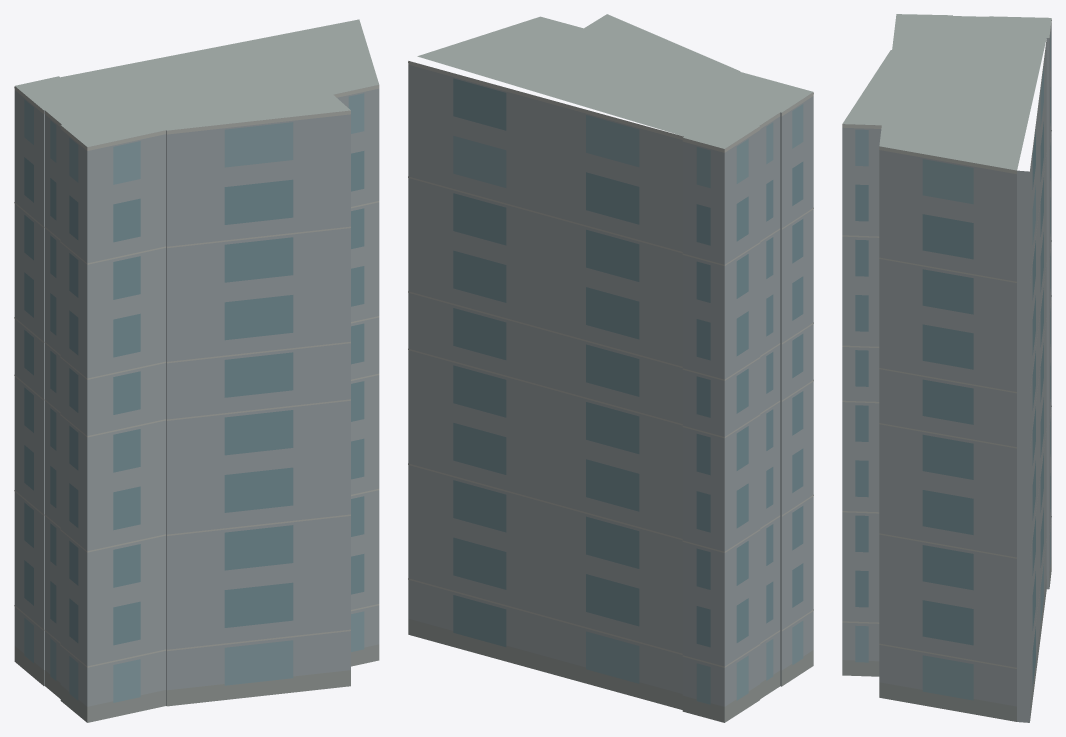
The model's file is survey-upis-32784634.glb.
3 views of the same model, side by side, from view 1: azimuth 30°, elevation 25°; view 2: azimuth 150°, elevation 25°; view 3: azimuth 270°, elevation 25° (orthographic). The views are drawn at different scales.
Parts seen in each view (by area): view 1: survey-upis-32784634.tmp; view 2: survey-upis-32784634.tmp; view 3: survey-upis-32784634.tmp.
Part boxes in pixels (bbox=[...]): survey-upis-32784634.tmp: bbox=[14, 19, 379, 722]; survey-upis-32784634.tmp: bbox=[408, 14, 813, 722]; survey-upis-32784634.tmp: bbox=[842, 14, 1051, 722].
Bounding box in the file's own units: 22.1 × 36.05 × 12.44.
